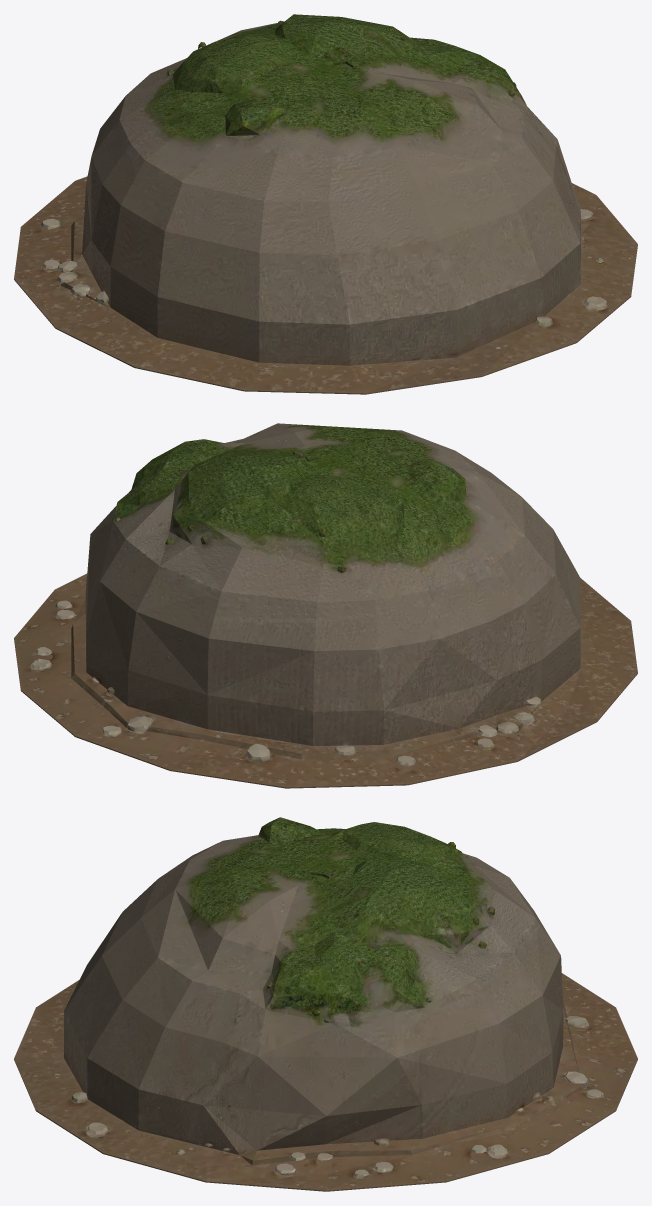
File: rock_single_LOD0.glb
The picture shows the model from 3 angles, top to bottom: view 1: azimuth 30°, elevation 25°; view 2: azimuth 150°, elevation 25°; view 3: azimuth 270°, elevation 25°; orthographic projection.
Visible parts, largest first — view 1: rock_single_LOD0; view 2: rock_single_LOD0; view 3: rock_single_LOD0.
Boxes of the visible parts, box(x1,y1,x2,y2) form: rock_single_LOD0: box(14, 14, 637, 394); rock_single_LOD0: box(14, 423, 637, 788); rock_single_LOD0: box(14, 817, 637, 1191).
Bounding box in the file's own units: 0.9993 × 0.3657 × 0.9993.
1 material, 1 textured.
